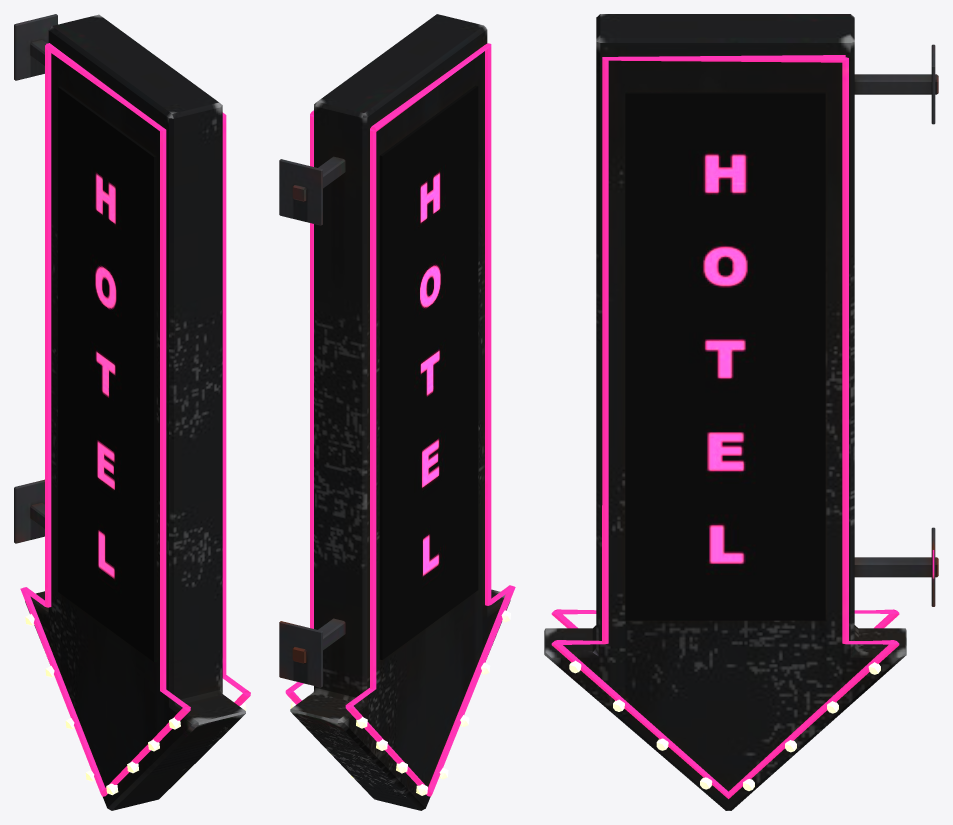
Rendered from neon_arrow_sign.glb.
The picture shows the model from 3 angles, left to right: view 1: azimuth 30°, elevation 25°; view 2: azimuth 150°, elevation 25°; view 3: azimuth 270°, elevation 25°; orthographic projection. The views are drawn at different scales.
Visible parts, largest first — view 1: neon_arrow_sign; view 2: neon_arrow_sign; view 3: neon_arrow_sign.
Part boxes in pixels (<box>): neon_arrow_sign: <box>14,14,250,810</box>; neon_arrow_sign: <box>279,14,515,810</box>; neon_arrow_sign: <box>544,14,938,810</box>.
Bounding box in the file's own units: 0.2834 × 2.64 × 1.22.
Materials: 1 (1 with a texture image).
